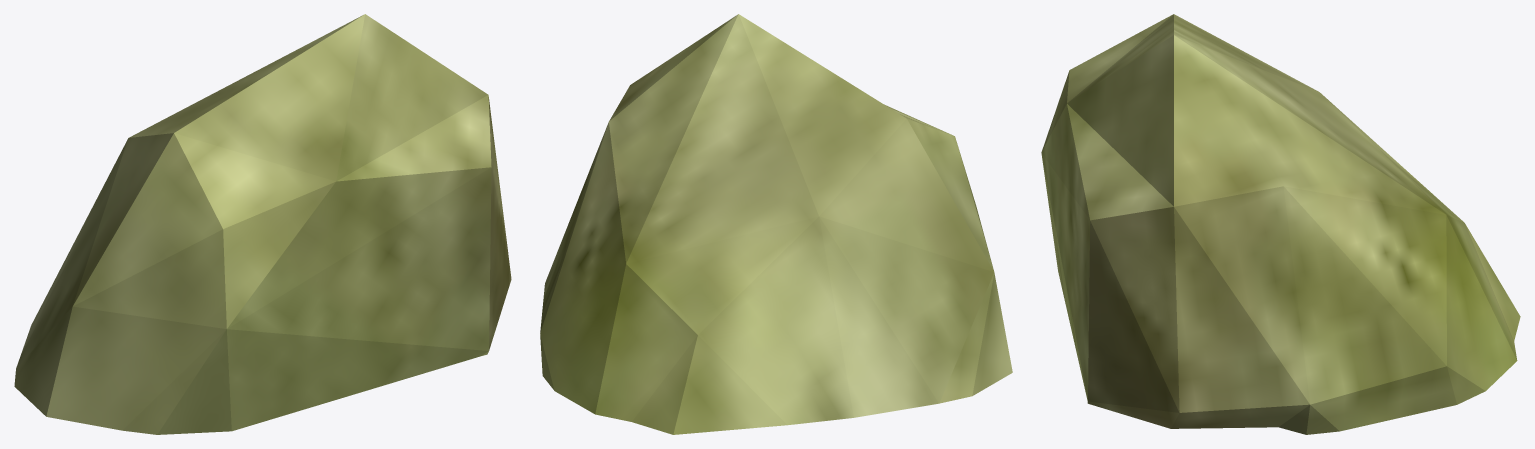
The picture shows the model from 3 angles, left to right: view 1: azimuth 30°, elevation 25°; view 2: azimuth 150°, elevation 25°; view 3: azimuth 270°, elevation 25°; orthographic projection. The views are drawn at different scales.
Size of the model in its own units: 0.3865 by 0.2593 by 0.3415.
Materials: 1 (1 with a texture image).
